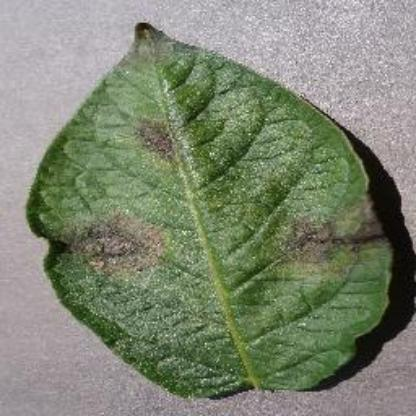Late-Blight: (19, 13, 409, 408)
